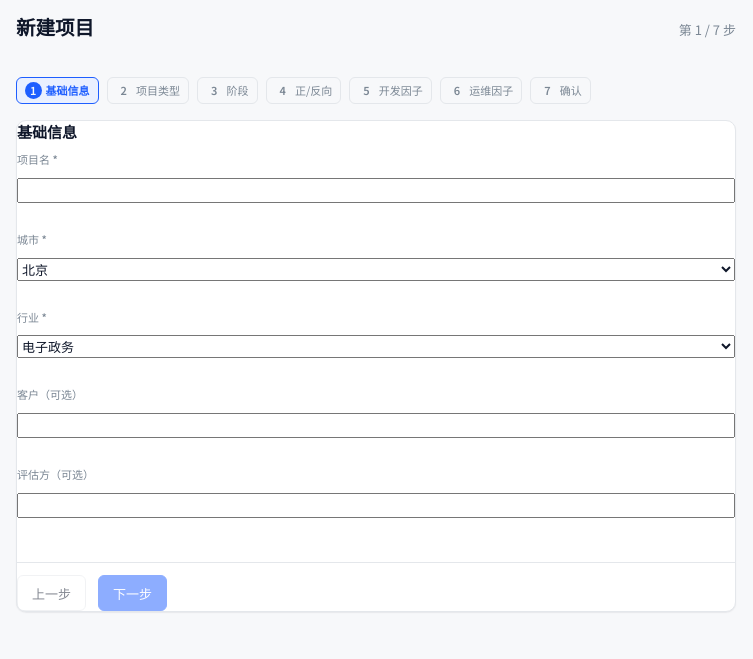
ProjectWizard assessment_kind field › step 2 renders assessment_kind field with both radio options
Type "测试项目" into the field named "name" at point(376, 191), box [17, 178, 735, 203]
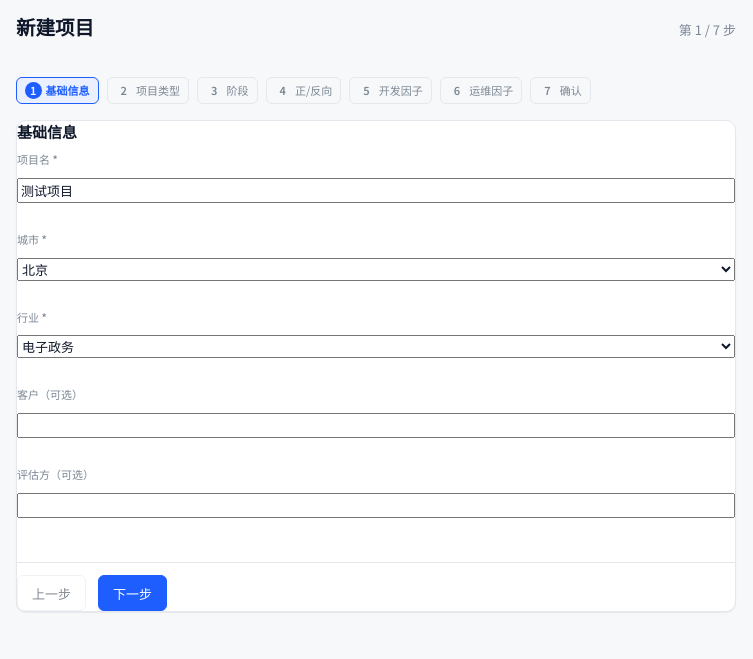
Click the button with test id "wizard-next" at point(132, 593), box [98, 575, 167, 611]
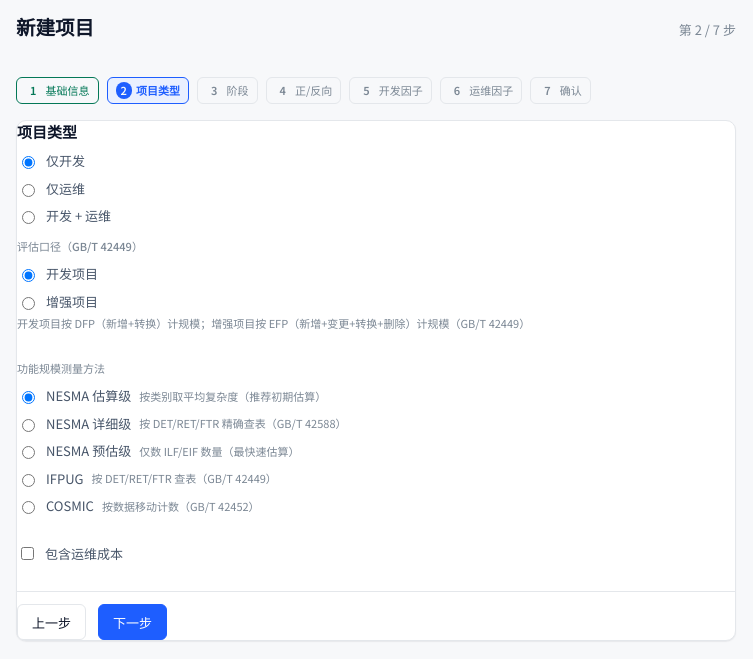
expect the element with test id "wizard-assessment-kind" is shown: met, box [17, 238, 530, 331]
expect the number of radio buttons named "assessment_kind" is 2: met, box [22, 269, 35, 282]; [22, 296, 35, 310]
